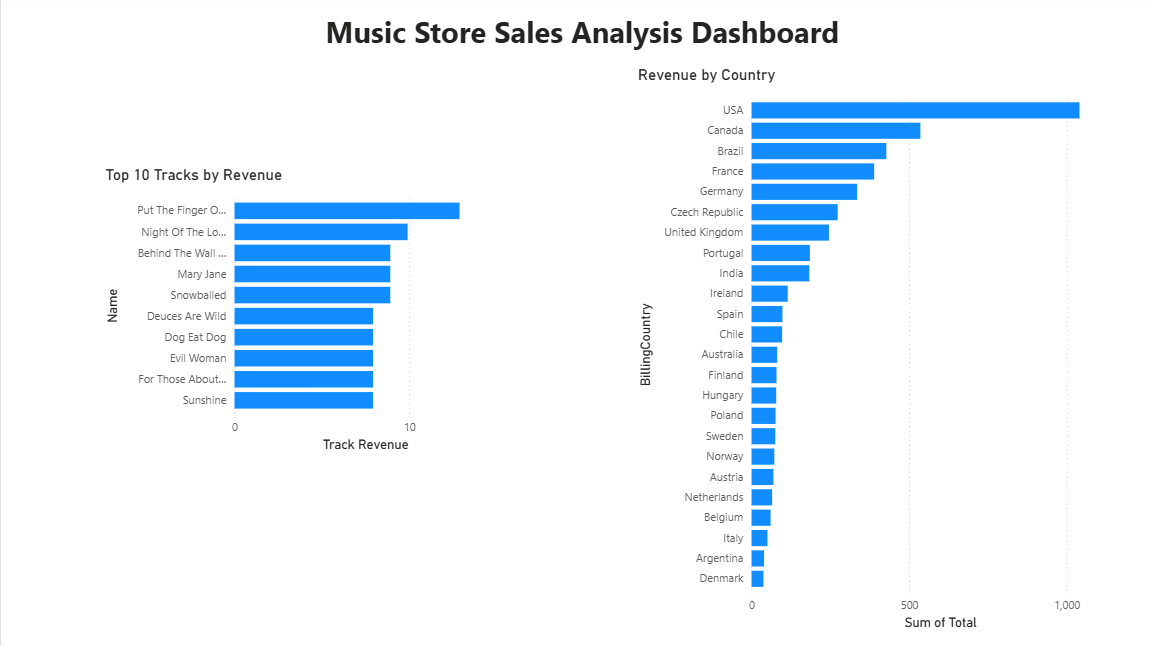

What the dashboard file says about the page in this screenshot:
{"tool":"powerbi","page":{"name":"Page 2","canvas":[1280,720],"ordinal":1},"visuals":[{"type":"clusteredBarChart","title":"Revenue by Country","fields":{"Y":["Sum(music_store_analysis invoice.Total)"],"Category":["music_store_analysis invoice.BillingCountry"]},"box":[695,76.7,565,625],"z":5},{"type":"clusteredBarChart","title":"Top 10 Tracks by Revenue","fields":{"Category":["music_store_analysis track.Name"],"Y":["music_store_analysis track.Track Revenue"]},"box":[110,186.7,446.7,320],"z":9},{"type":"textbox","box":[351.7,13.3,626.7,63.3],"z":10}]}

Visuals, with their boxes in screenshot pixels (x1, y1, x2, y2), scaled from the page's 1280x720 canvas onto the 1150x646 screenshot:
"Revenue by Country" clusteredBarChart: box=[624, 69, 1132, 630]
"Top 10 Tracks by Revenue" clusteredBarChart: box=[99, 168, 500, 455]
textbox: box=[316, 12, 879, 69]
